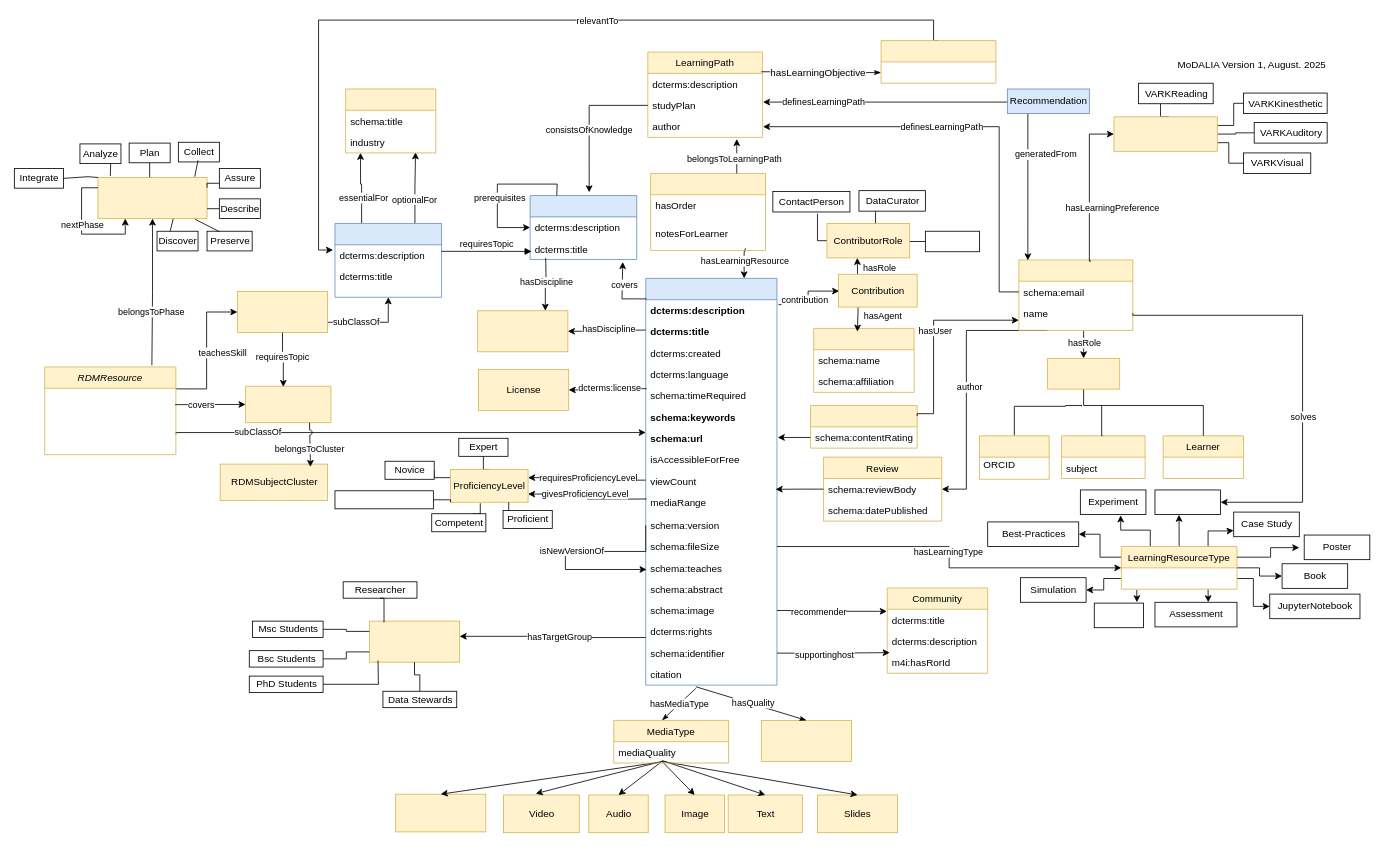
This 1384x847 diagram has some shape labels left out. Each missing label, with the box of its shape:
Advanced Beginner: (334, 490, 433, 509)
Code/Script: (395, 793, 486, 832)
ContentQuality: (761, 720, 852, 761)
Contributor: (813, 328, 914, 392)
Curator: (1061, 435, 1145, 478)
DataLifeCyclePhase: (97, 177, 207, 219)
Discipline: (477, 310, 568, 352)
EducationalResource: (645, 278, 777, 685)
Job: (345, 88, 436, 153)
KnowledgeTopic: (529, 195, 637, 260)
LearningObjective: (880, 40, 996, 83)
LearningPathStep: (650, 173, 765, 251)
LearningPreference: (1113, 116, 1217, 151)
Lecture: (1093, 602, 1143, 628)
Questionnaire: (1154, 489, 1221, 515)
RatingIndicator: (810, 405, 917, 448)
RDMSkill: (237, 291, 328, 333)
RDMTopic: (245, 385, 331, 423)
Skill: (334, 223, 442, 297)
Sponsor: (925, 230, 979, 252)
TargetGroup: (369, 620, 460, 662)
Teacher: (979, 435, 1049, 479)
User: (1018, 259, 1133, 330)
UserRole: (1047, 358, 1120, 389)
